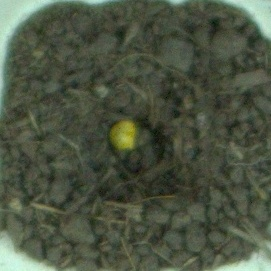pepper seed: (39, 42, 178, 195)
